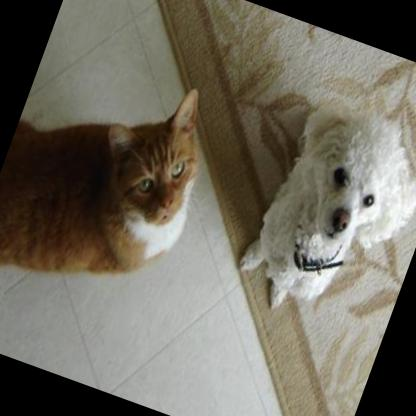toy_poodle: (224, 76, 416, 345)
